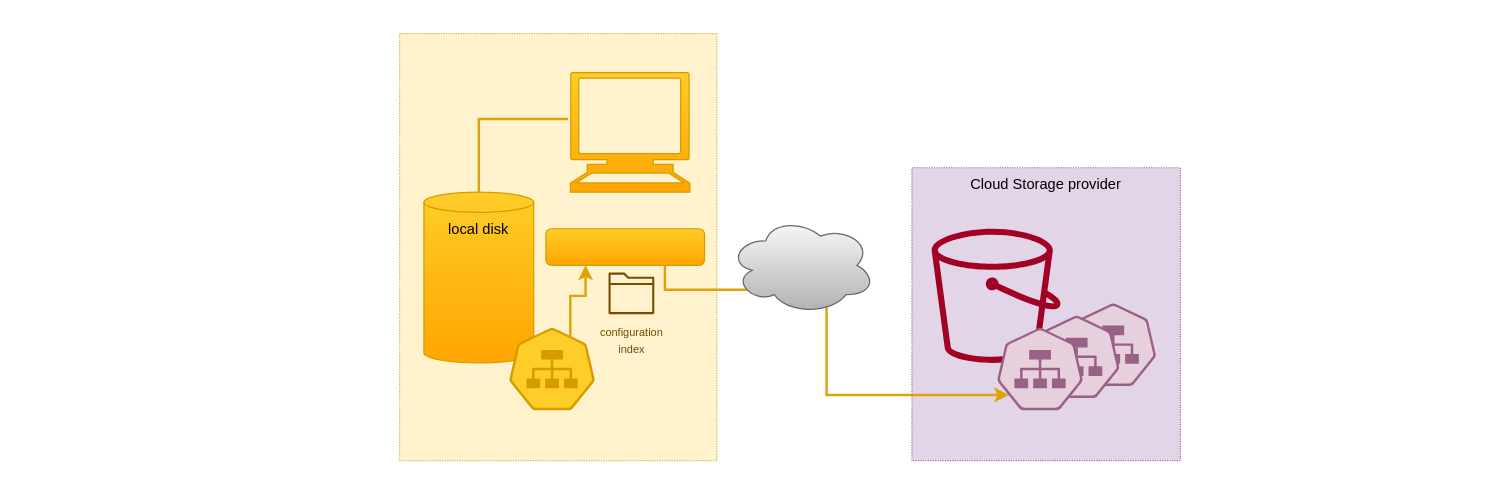
Some shapes in this 1505 by 493 pixel diagram are drawn without their labels. Here are the shapes that lost their labels. From the top down, the box of each, then its label:
(569, 71, 690, 192): workstation
(545, 228, 705, 265): synchronization
